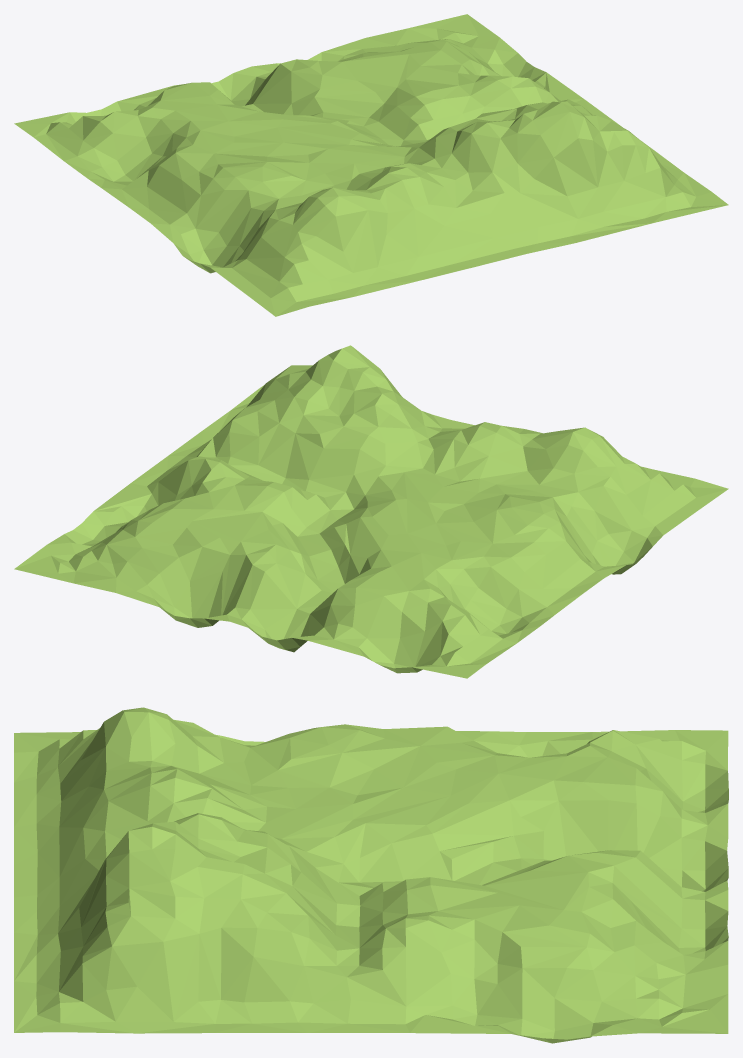
Rendered from testterrain.fbx.
3 views of the same model, one above another, from view 1: azimuth 30°, elevation 25°; view 2: azimuth 150°, elevation 25°; view 3: azimuth 270°, elevation 25° (orthographic). The views are drawn at different scales.
Parts seen in each view (by area): view 1: Plane; view 2: Plane; view 3: Plane.
Part boxes in pixels (left/top/right/bottom): Plane: left=14, top=14, right=728, bottom=316; Plane: left=14, top=345, right=728, bottom=678; Plane: left=14, top=707, right=728, bottom=1043.
Size of the model in its own units: 1001 by 266 by 1001.
